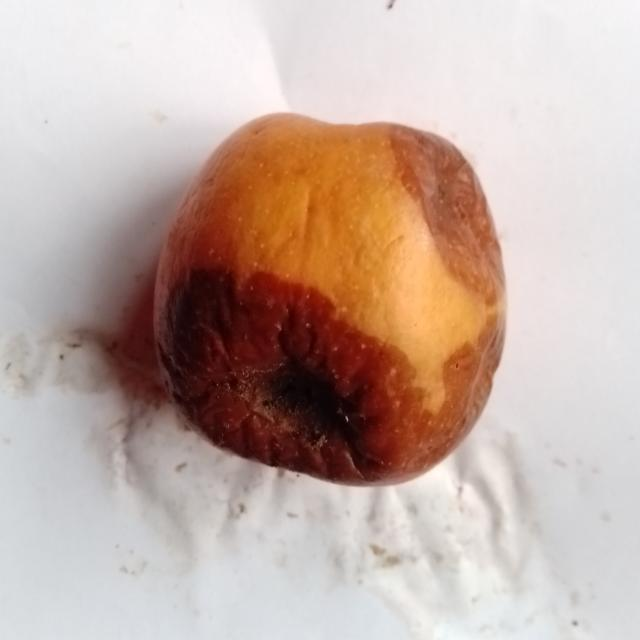apple: (155, 115, 504, 484)
